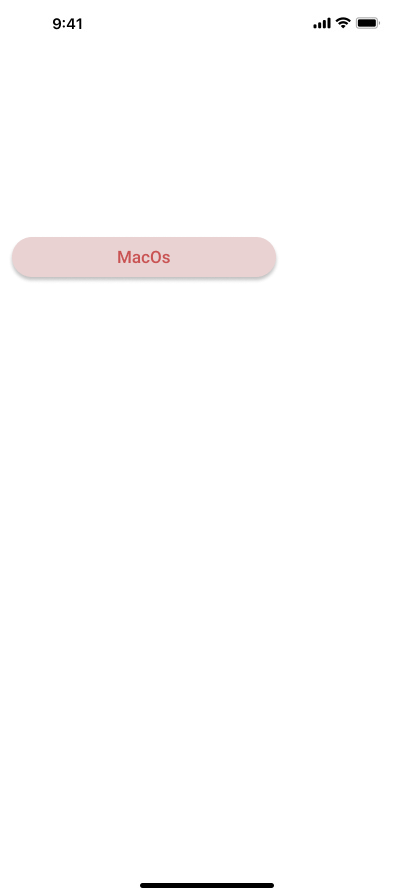Buttons: (8, 236, 284, 284)
Home Indicator: (0, 862, 414, 896)
Status Bar: (0, 0, 414, 44)
